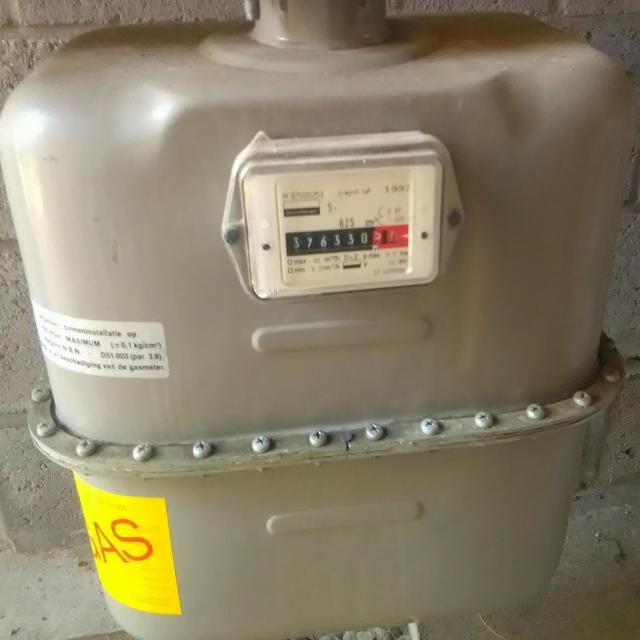gaz_meter: (245, 168, 440, 285)
indication: (285, 223, 401, 260)
